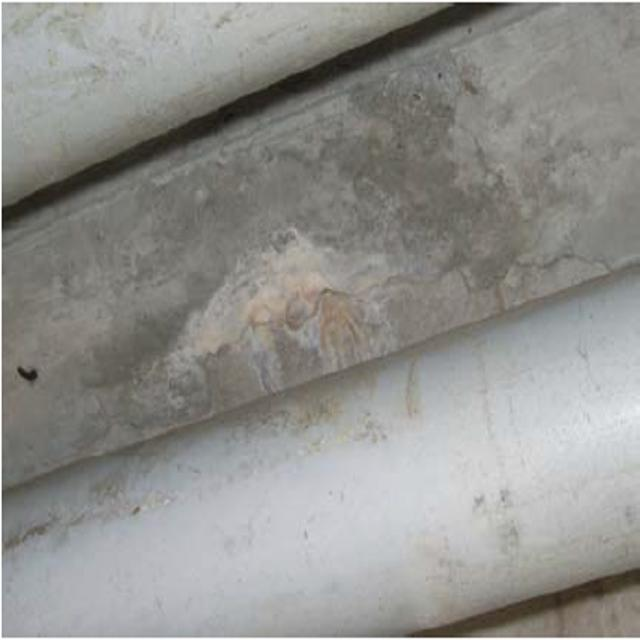freelime: (163, 203, 407, 393)
